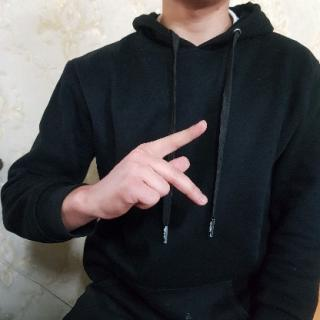DHAA: (86, 111, 226, 230)
